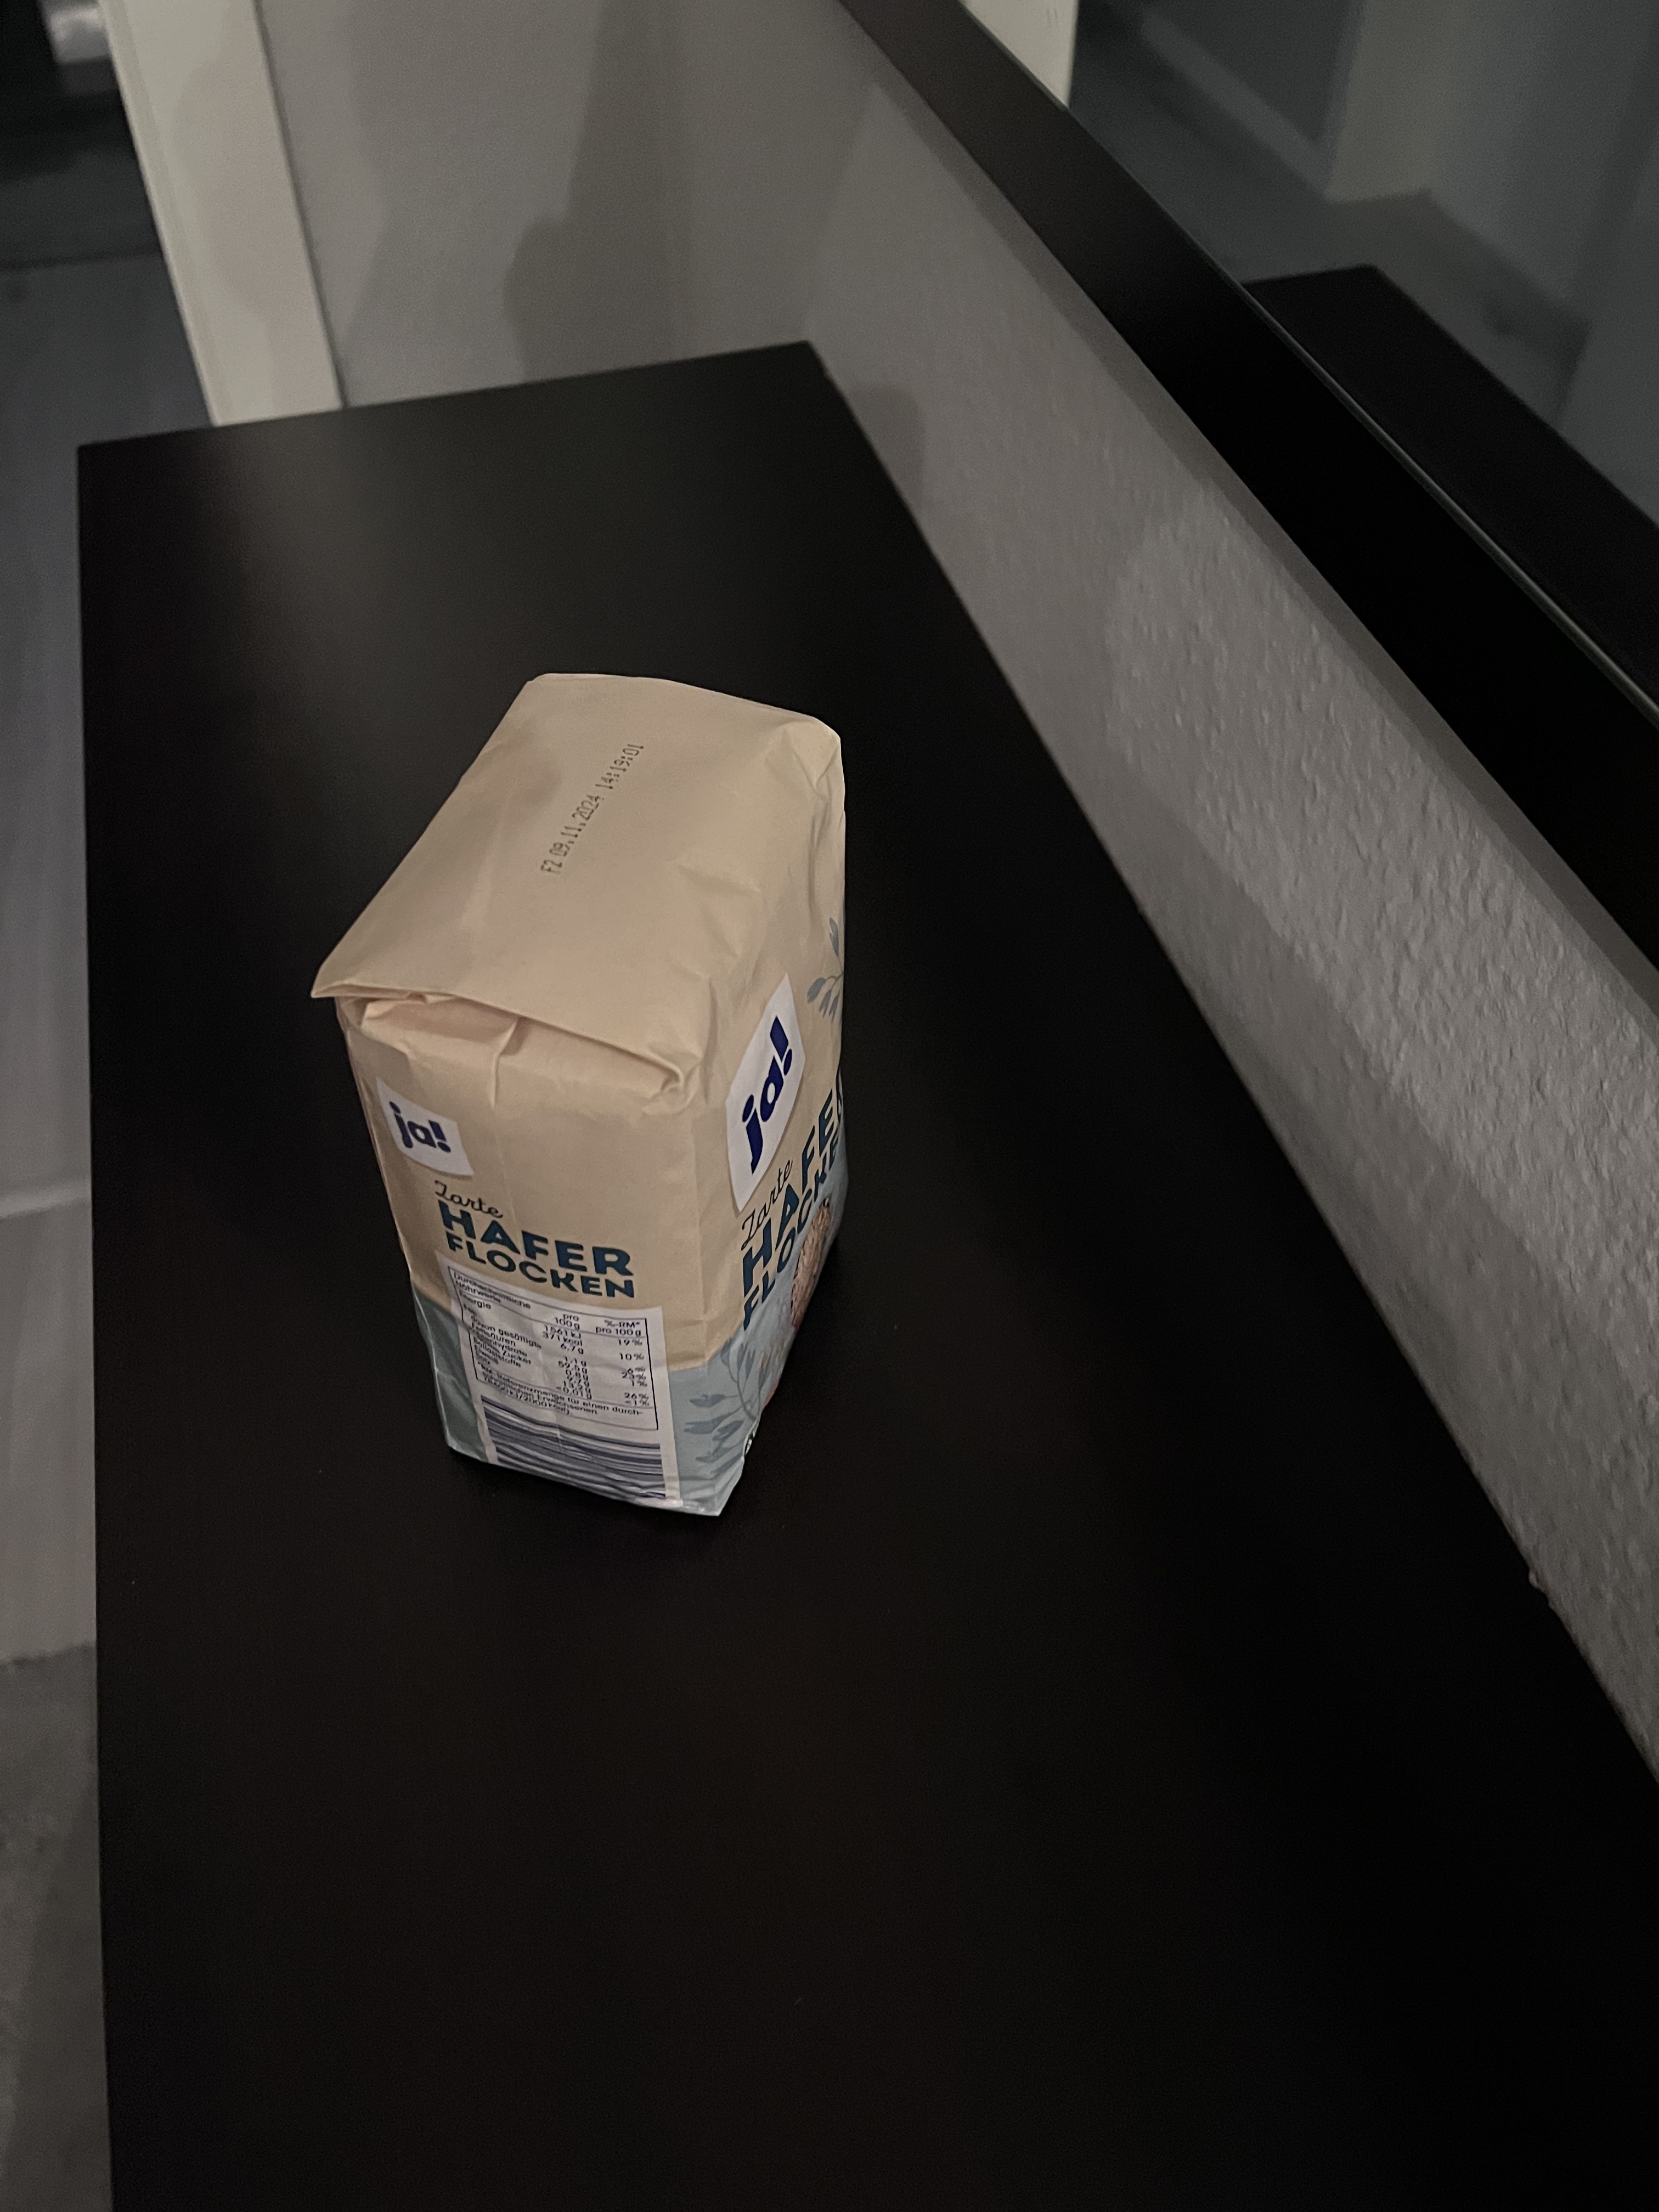haferflocken_ja: (307, 669, 868, 1522)
